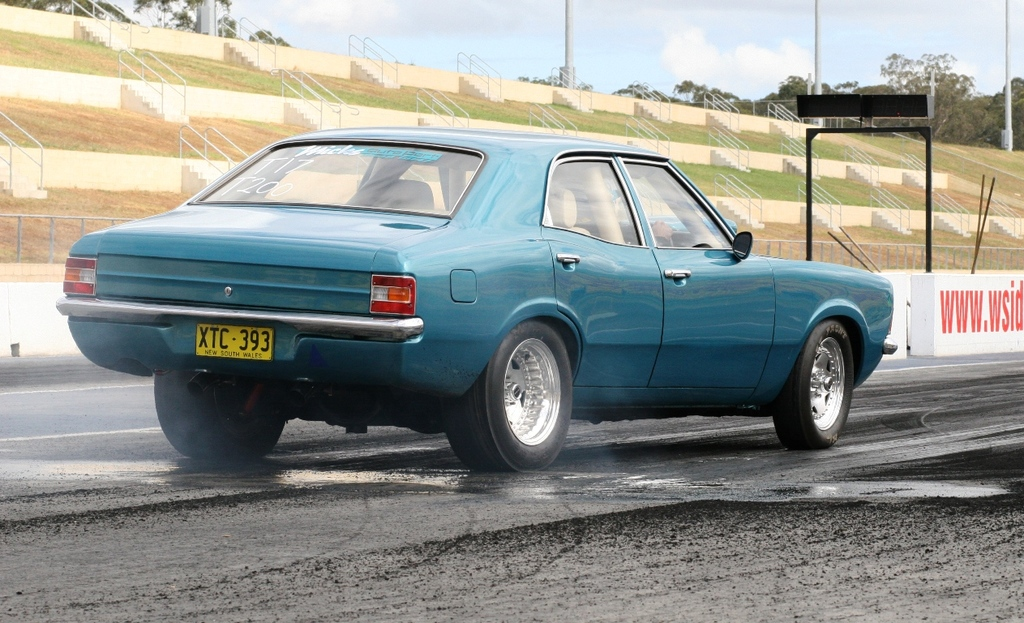Car: (50, 128, 895, 474)
